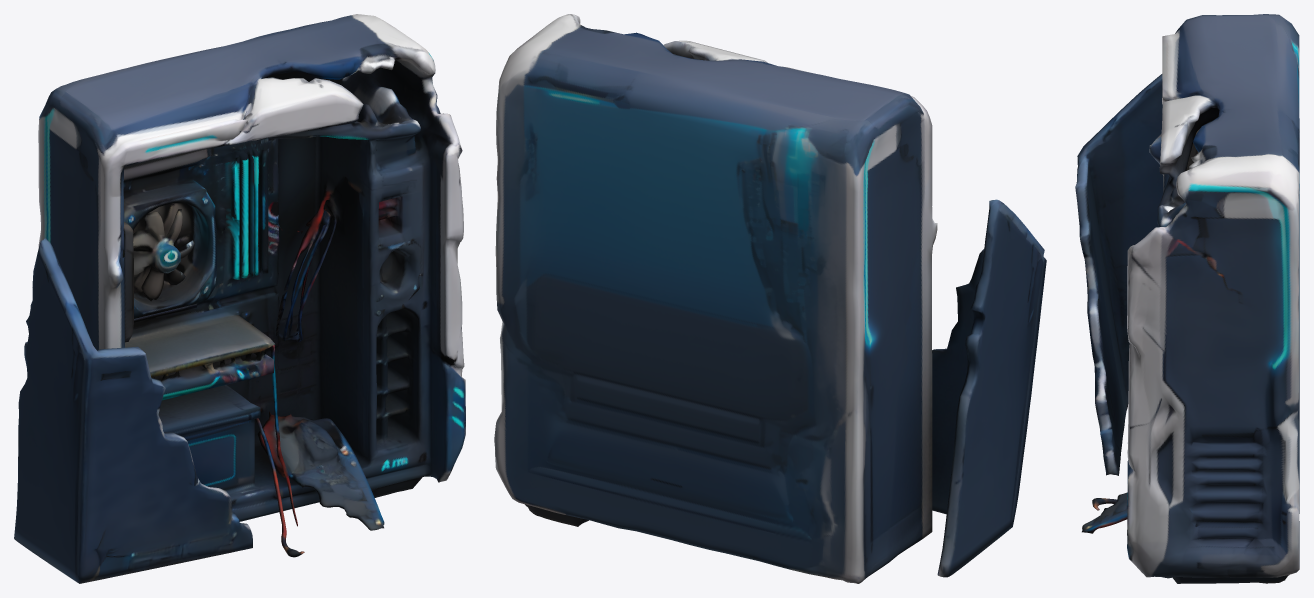
Rendered from cpu-rusakv2.fbx.
3 views of the same model, side by side, from view 1: azimuth 30°, elevation 25°; view 2: azimuth 150°, elevation 25°; view 3: azimuth 270°, elevation 25° (orthographic). The views are drawn at different scales.
Parts seen in each view (by area): view 1: model.001; view 2: model.001; view 3: model.001.
Part boxes in pixels (x1=…): model.001: x1=14, y1=14, x2=465, y2=583; model.001: x1=494, y1=14, x2=1046, y2=583; model.001: x1=1075, y1=14, x2=1299, y2=583.
Bounding box in the file's own units: 167 × 171 × 81.49.
Materials: 1 (1 with a texture image).
